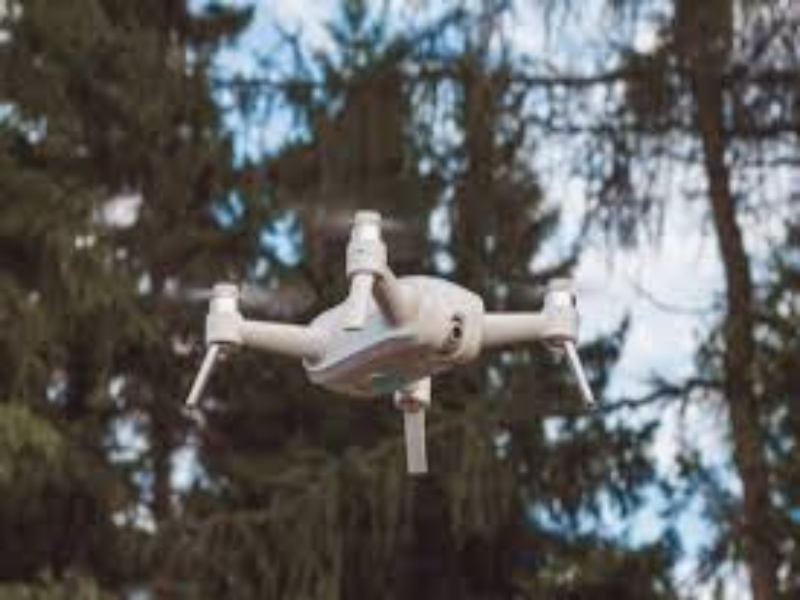drone: (172, 205, 604, 469)
